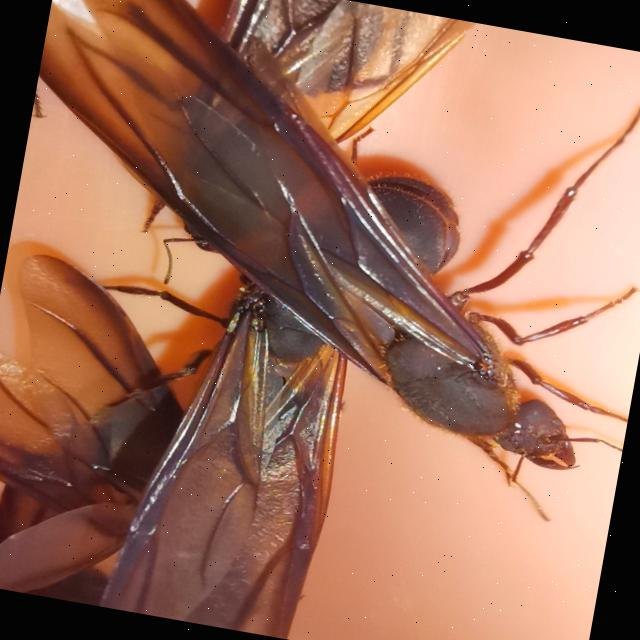Alive-Female-Alate: (0, 0, 640, 534), (10, 76, 478, 640), (26, 0, 481, 331), (0, 248, 356, 640)
